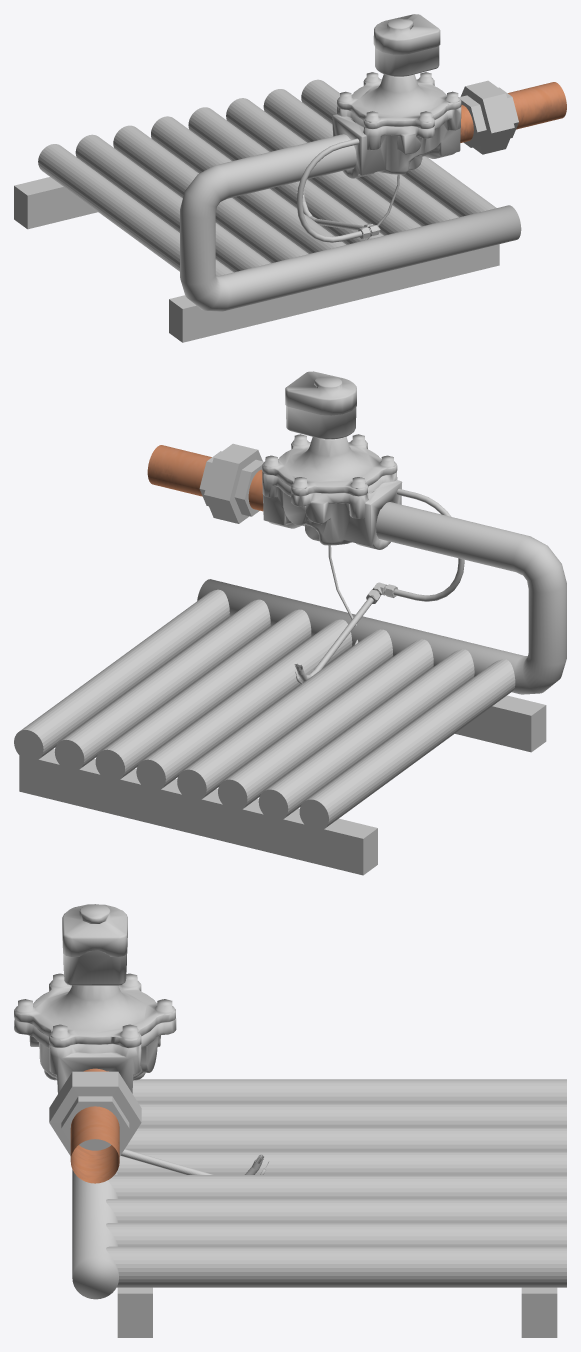
File: Boiler Internals.fbx
3 views of the same model, one above another, from view 1: azimuth 30°, elevation 25°; view 2: azimuth 150°, elevation 25°; view 3: azimuth 270°, elevation 25° (orthographic). The views are drawn at different scales.
Parts seen in each view (by area): view 1: Burners, Manifold Pipe, Gas Control Valve, Burner Support.001, Check Valve, Burner Support, Pipe 24.003, Gas feeder, Gas inlet; view 2: Burners, Manifold Pipe, Gas Control Valve, Burner Support, Check Valve, Burner Support.001, Pipe 24.003, Gas feeder, Gas inlet; view 3: Burners, Gas Control Valve, Manifold Pipe, Check Valve, Pipe 24.003, Burner Support, Burner Support.001, Gas inlet.
Part boxes in pixels (bbox=[...]): Burners: bbox=[38, 79, 496, 276]; Manifold Pipe: bbox=[180, 134, 521, 311]; Gas Control Valve: bbox=[332, 14, 461, 178]; Burner Support.001: bbox=[169, 244, 499, 342]; Check Valve: bbox=[459, 80, 518, 154]; Burner Support: bbox=[14, 177, 97, 229]; Pipe 24.003: bbox=[460, 82, 566, 142]; Gas feeder: bbox=[297, 138, 362, 242]; Gas inlet: bbox=[296, 191, 363, 230]; Burners: bbox=[14, 589, 515, 831]; Manifold Pipe: bbox=[197, 502, 566, 694]; Gas Control Valve: bbox=[262, 371, 402, 549]; Burner Support: bbox=[19, 749, 377, 875]; Check Valve: bbox=[199, 443, 264, 523]; Burner Support.001: bbox=[455, 695, 546, 752]; Pipe 24.003: bbox=[147, 445, 263, 511]; Gas feeder: bbox=[393, 488, 464, 601]; Gas inlet: bbox=[294, 597, 373, 681]; Burners: bbox=[106, 1079, 566, 1287]; Gas Control Valve: bbox=[14, 904, 176, 1093]; Manifold Pipe: bbox=[72, 1170, 118, 1299]; Check Valve: bbox=[49, 1071, 141, 1156]; Pipe 24.003: bbox=[70, 1068, 119, 1183]; Burner Support: bbox=[521, 1287, 557, 1337]; Burner Support.001: bbox=[117, 1287, 152, 1337]; Gas inlet: bbox=[120, 1149, 263, 1174].
Bounding box in the file's own units: 49.86 × 34.92 × 48.84.
